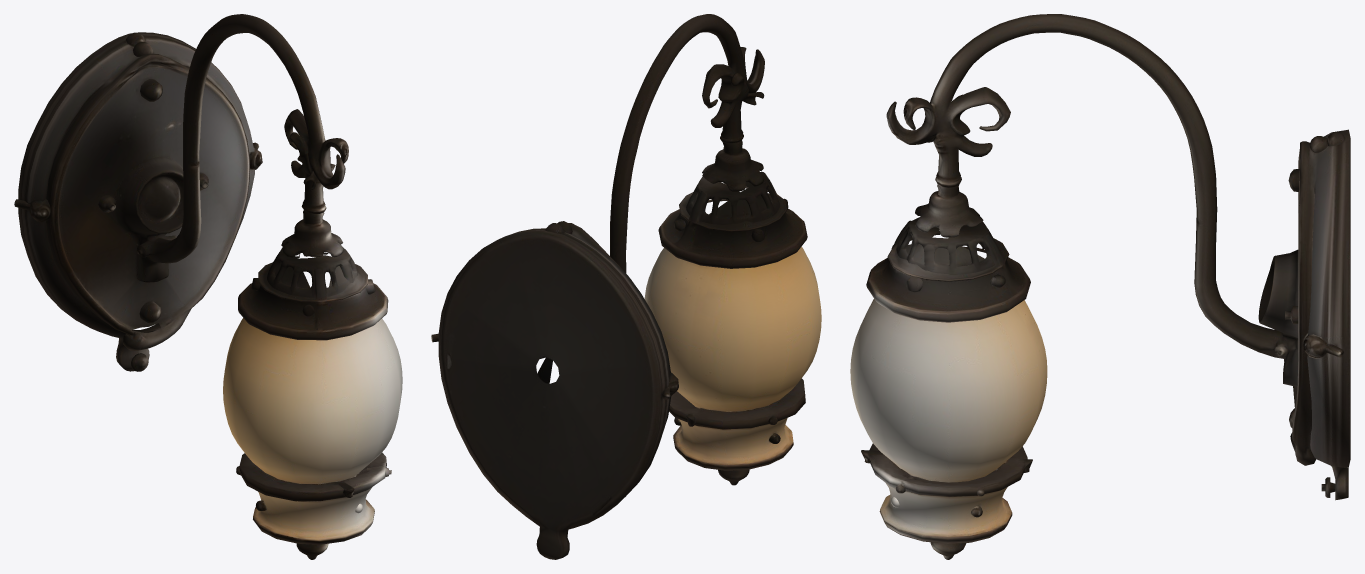
File: wall-sconce.glb
3 views of the same model, side by side, from view 1: azimuth 30°, elevation 25°; view 2: azimuth 150°, elevation 25°; view 3: azimuth 270°, elevation 25° (orthographic). The views are drawn at different scales.
Visible parts, largest first — view 1: db8be2f7_e376_4a1e_8a8b_b8387cc8673f; view 2: db8be2f7_e376_4a1e_8a8b_b8387cc8673f; view 3: db8be2f7_e376_4a1e_8a8b_b8387cc8673f.
Part boxes in pixels (bbox=[...]): db8be2f7_e376_4a1e_8a8b_b8387cc8673f: bbox=[14, 14, 402, 559]; db8be2f7_e376_4a1e_8a8b_b8387cc8673f: bbox=[431, 14, 821, 559]; db8be2f7_e376_4a1e_8a8b_b8387cc8673f: bbox=[850, 14, 1350, 559].
Bounding box in the file's own units: 0.5063 × 0.9995 × 0.8315.
Materials: 1 (1 with a texture image).
